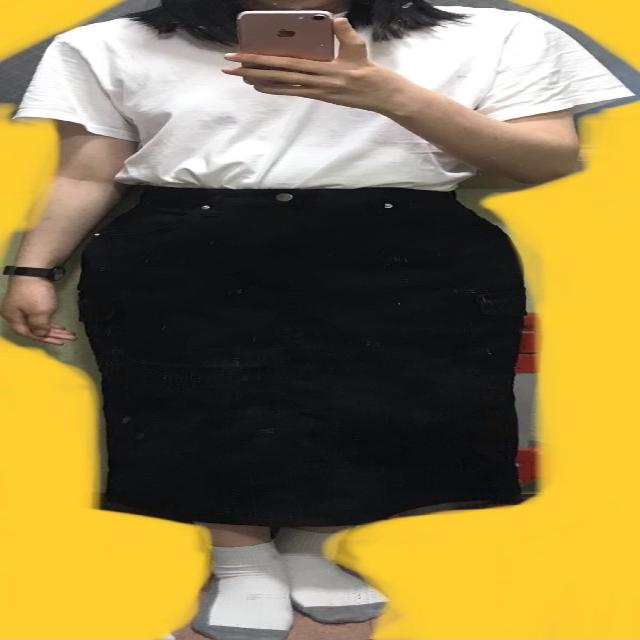shortsleeve: (26, 1, 634, 188)
skirt: (85, 180, 536, 527)
